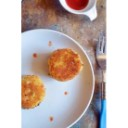cutlet: (48, 48, 82, 80), (20, 73, 45, 107)
